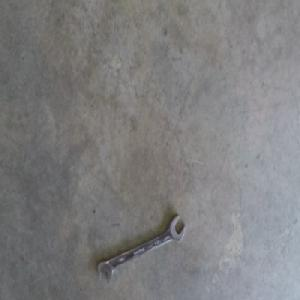Wrench: (97, 214, 185, 281)
